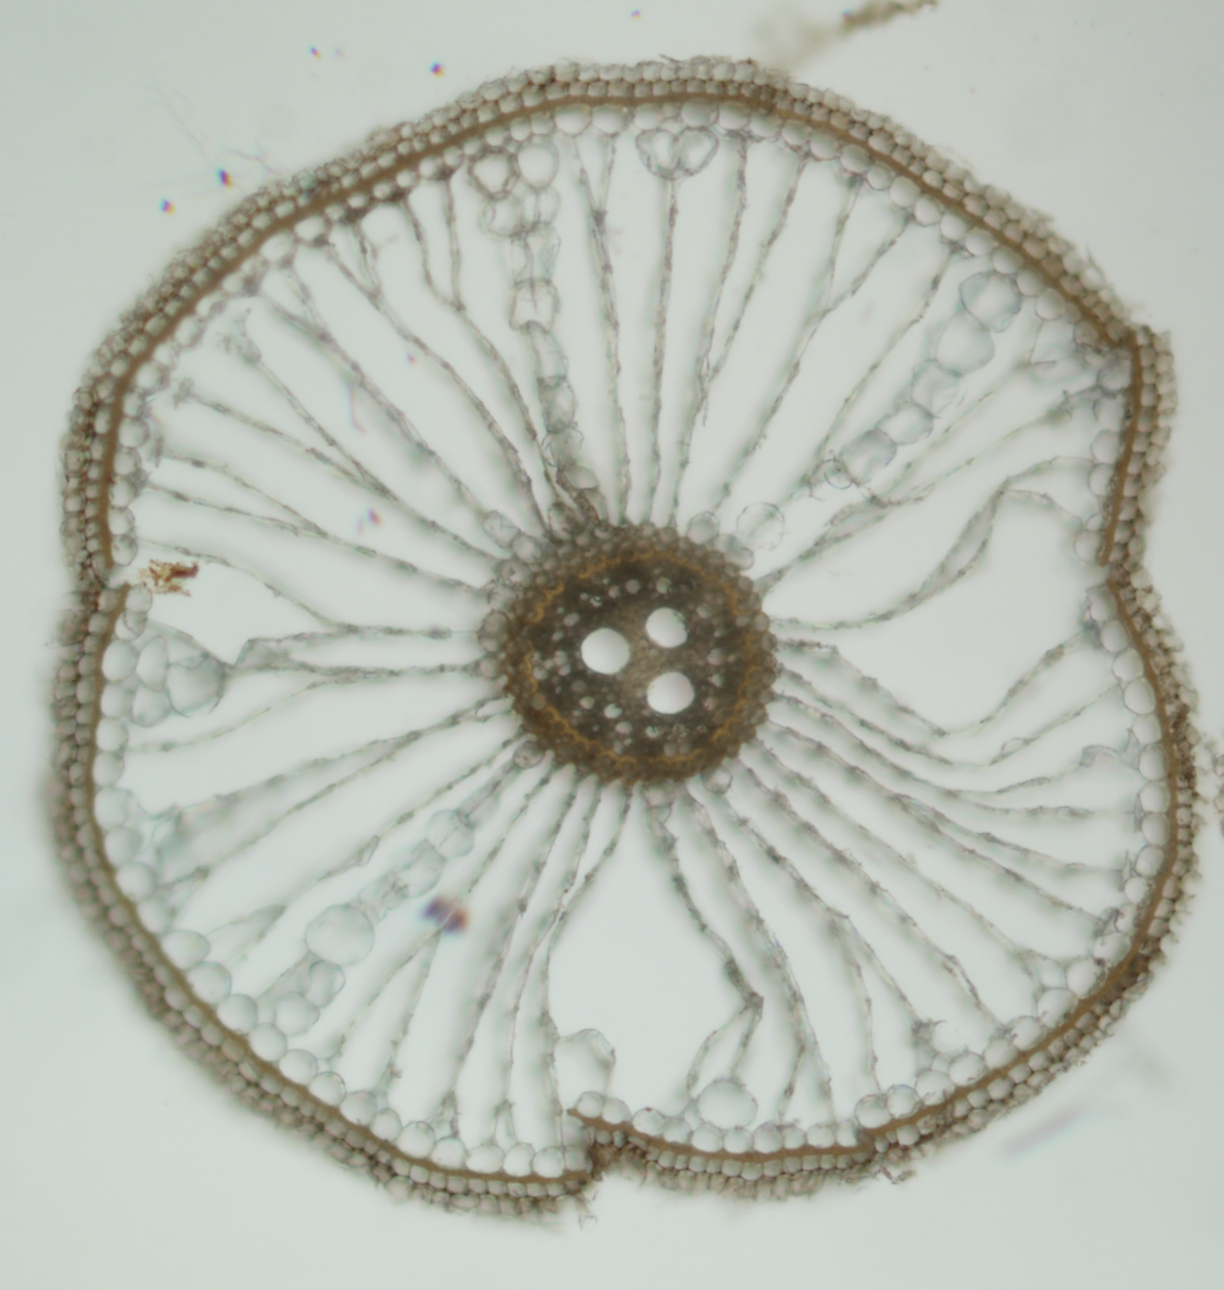lm: (580, 627, 632, 673), (647, 670, 694, 713), (644, 606, 688, 648)
